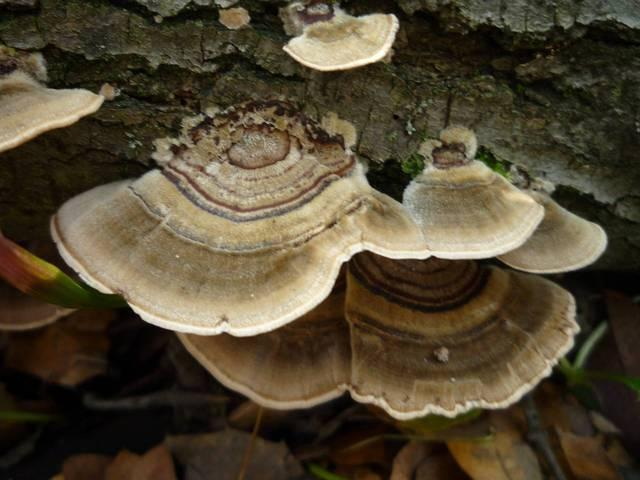Non-edible Mushroom: (49, 96, 607, 430), (48, 96, 427, 338), (342, 124, 584, 427), (279, 0, 400, 72)
